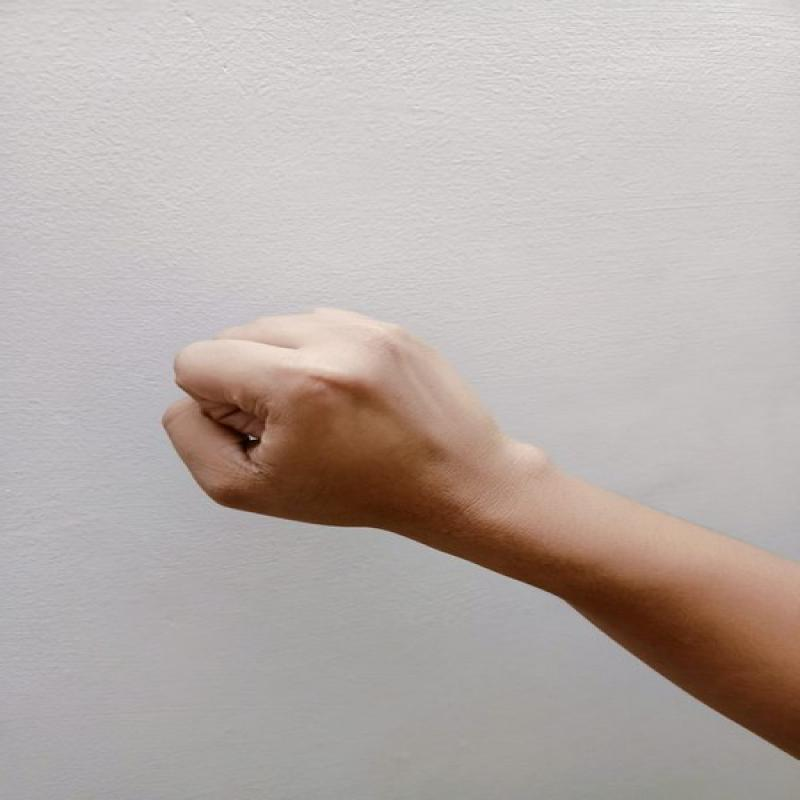Mushti: (156, 284, 501, 544)
